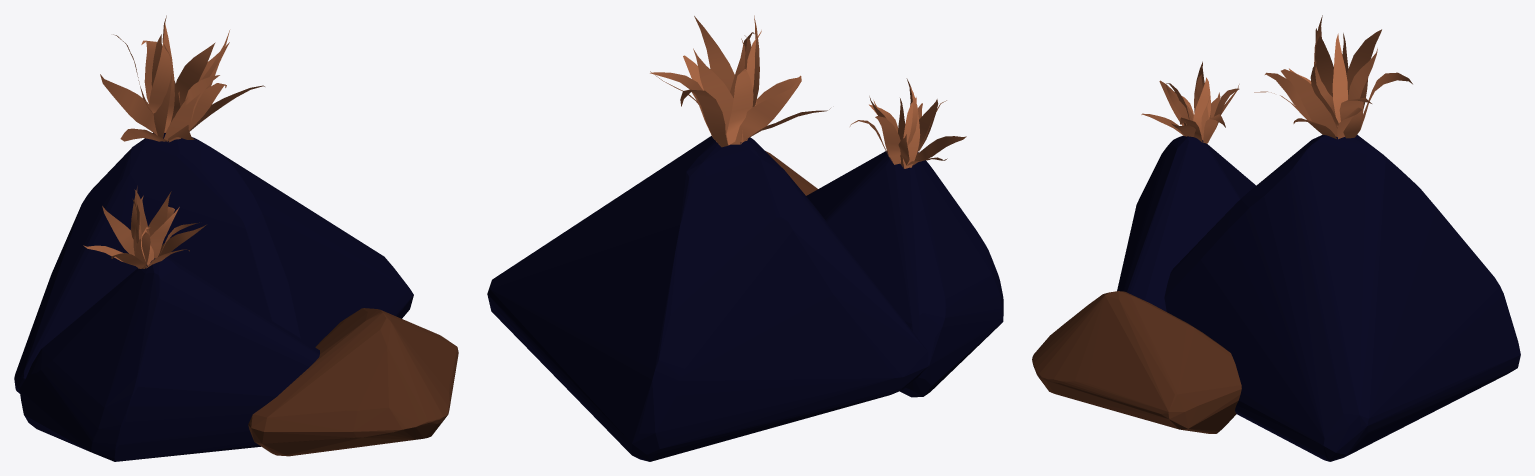
The picture shows the model from 3 angles, left to right: view 1: azimuth 30°, elevation 25°; view 2: azimuth 150°, elevation 25°; view 3: azimuth 270°, elevation 25°; orthographic projection. The views are drawn at different scales.
Parts seen in each view (by area): view 1: brush_MatteHull_g0_b0, brush_MatteHull_g1_b0, brush_Petal_g2_b0, brush_Petal_g1_b0; view 2: brush_MatteHull_g0_b0, brush_MatteHull_g1_b0, brush_Petal_g2_b0, brush_Petal_g1_b0; view 3: brush_MatteHull_g0_b0, brush_MatteHull_g1_b0, brush_Petal_g2_b0, brush_Petal_g1_b0.
Part boxes in pixels (x1,y1,x2,y2): brush_MatteHull_g0_b0: [14, 132, 458, 456]; brush_MatteHull_g1_b0: [19, 257, 319, 461]; brush_Petal_g2_b0: [100, 15, 264, 142]; brush_Petal_g1_b0: [83, 186, 206, 268]; brush_MatteHull_g0_b0: [487, 136, 928, 461]; brush_MatteHull_g1_b0: [806, 150, 1003, 397]; brush_Petal_g2_b0: [650, 15, 830, 147]; brush_Petal_g1_b0: [850, 78, 966, 168]; brush_MatteHull_g0_b0: [1032, 134, 1520, 461]; brush_MatteHull_g1_b0: [1117, 135, 1256, 311]; brush_Petal_g2_b0: [1254, 15, 1412, 139]; brush_Petal_g1_b0: [1141, 61, 1239, 143].
Bounding box in the file's own units: 3.64 × 3.15 × 3.93.
